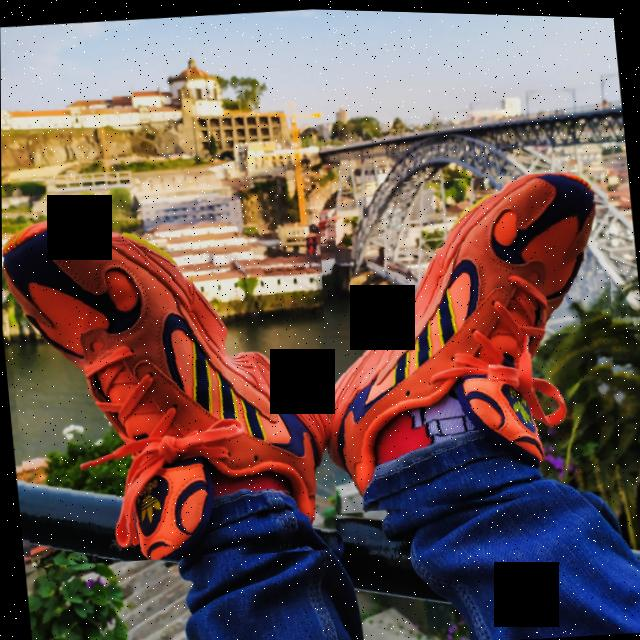shoe: (1, 185, 349, 574), (307, 159, 638, 519)
